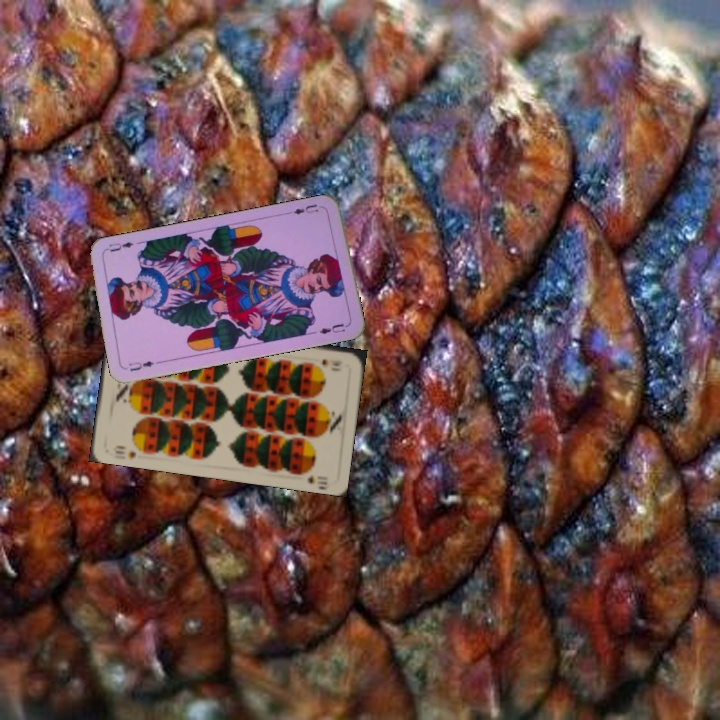EU: (285, 200, 321, 217), (125, 357, 156, 374)
S10: (108, 441, 138, 461), (317, 355, 345, 369)
